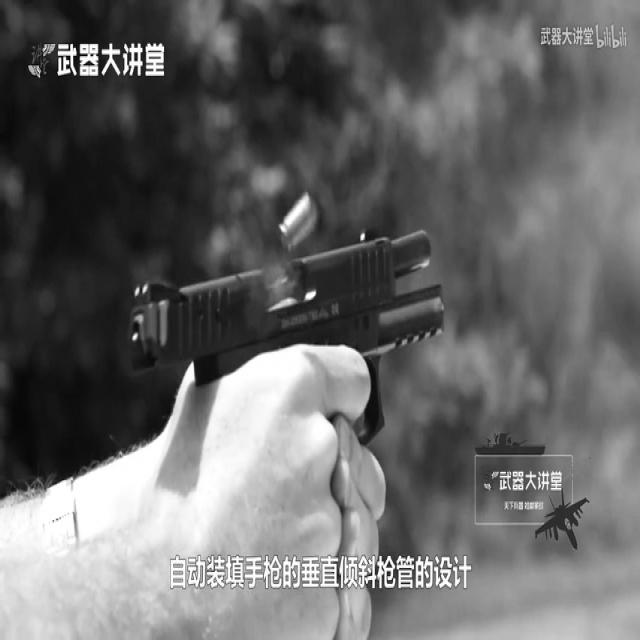Hand-Gun: (120, 212, 446, 510)
